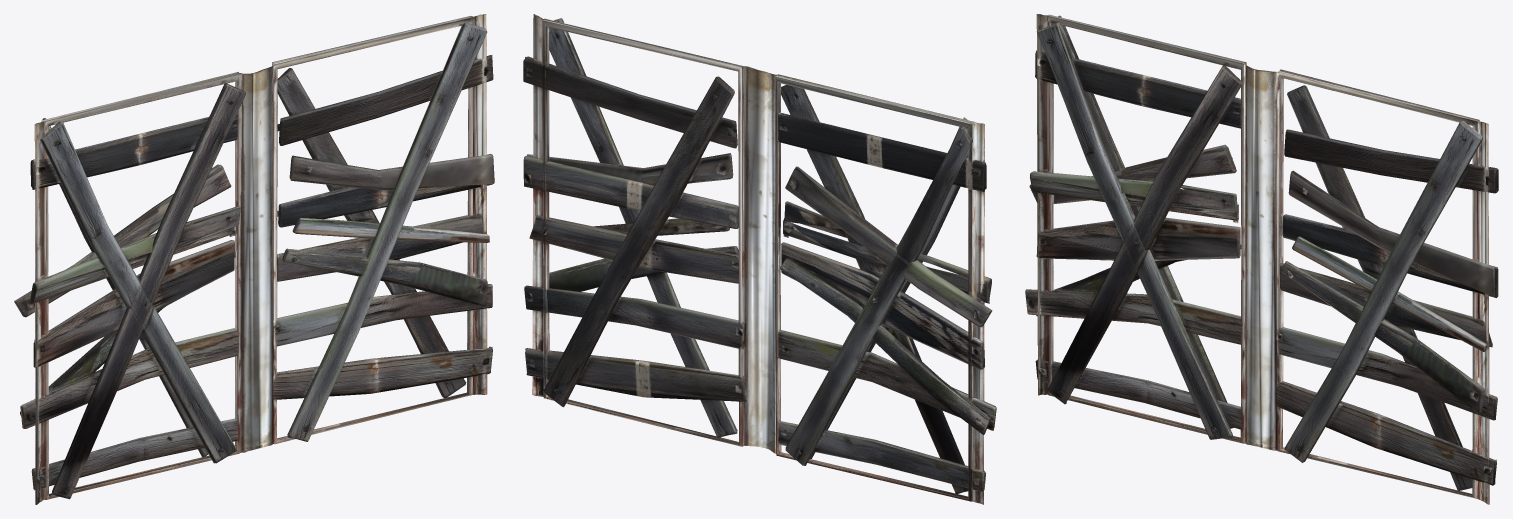
File: Meshy_AI_Crisscrossed_Windows_0717204457_texture.fbx
The picture shows the model from 3 angles, left to right: view 1: azimuth 30°, elevation 25°; view 2: azimuth 150°, elevation 25°; view 3: azimuth 330°, elevation 25°; orthographic projection.
Visible parts, largest first — view 1: Mesh_0; view 2: Mesh_0; view 3: Mesh_0.
Boxes of the visible parts, box(x1,y1,x2,y2) form: Mesh_0: box(14, 14, 494, 504); Mesh_0: box(523, 14, 996, 504); Mesh_0: box(1025, 14, 1498, 504).
Bounding box in the file's own units: 100 × 77.34 × 5.65.
1 material, 1 textured.
